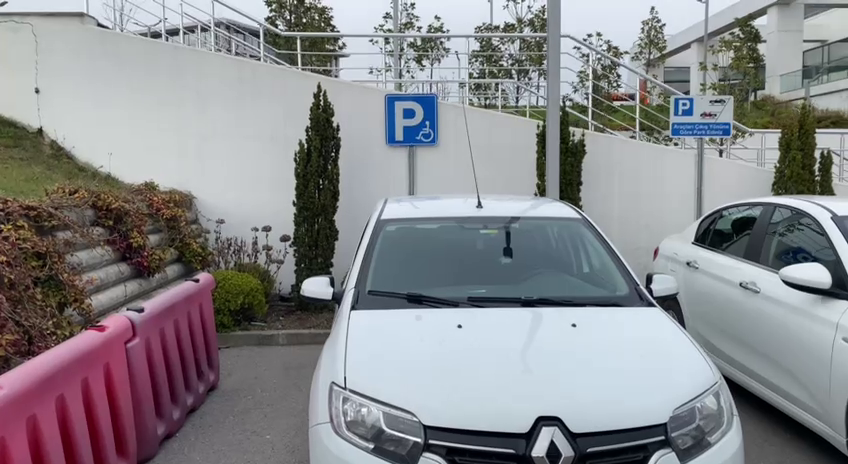parking: (383, 93, 439, 146), (673, 97, 695, 118)
